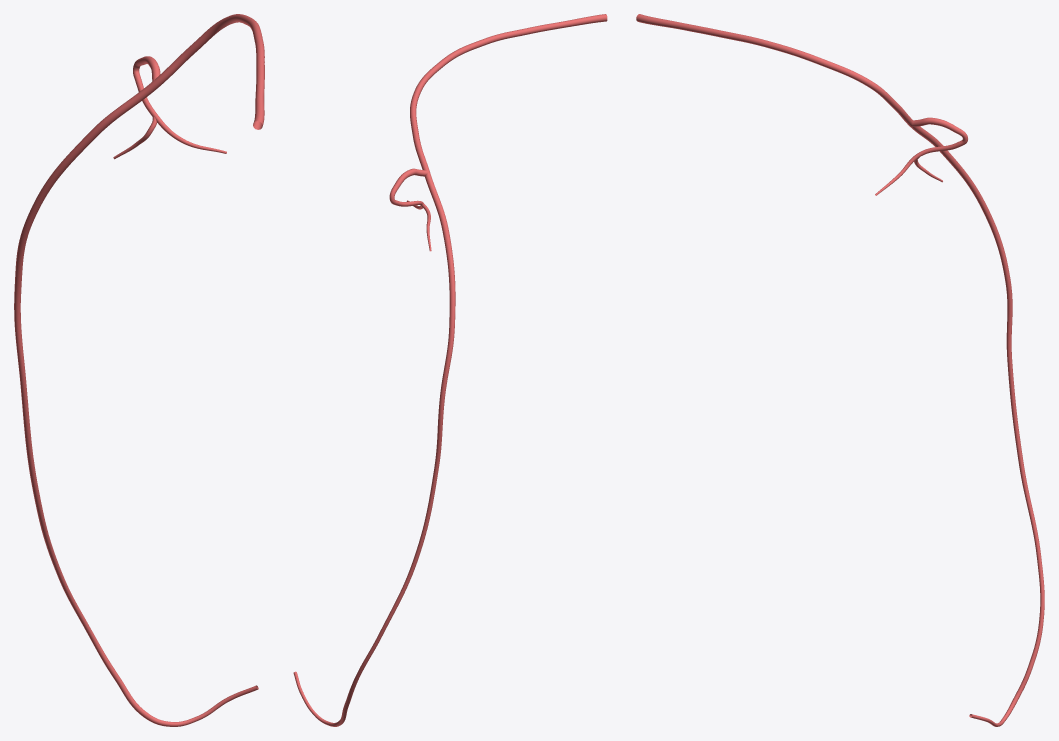
The model's file is Deep_branch_of_transverse_cervical_artery.l_BezierCurve.117.glb.
3 renders of one model, left to right at view 1: azimuth 30°, elevation 25°; view 2: azimuth 150°, elevation 25°; view 3: azimuth 270°, elevation 25°, orthographic. The views are drawn at different scales.
Parts seen in each view (by area): view 1: Deep_branch_of_transverse_cervical_artery.l_BezierCurve.117; view 2: Deep_branch_of_transverse_cervical_artery.l_BezierCurve.117; view 3: Deep_branch_of_transverse_cervical_artery.l_BezierCurve.117.
Part boxes in pixels (left/top/right/bottom): Deep_branch_of_transverse_cervical_artery.l_BezierCurve.117: left=14, top=14, right=264, bottom=726; Deep_branch_of_transverse_cervical_artery.l_BezierCurve.117: left=293, top=14, right=607, bottom=726; Deep_branch_of_transverse_cervical_artery.l_BezierCurve.117: left=636, top=14, right=1044, bottom=726.
Size of the model in its own units: 0.0514 by 0.1783 by 0.1004.
